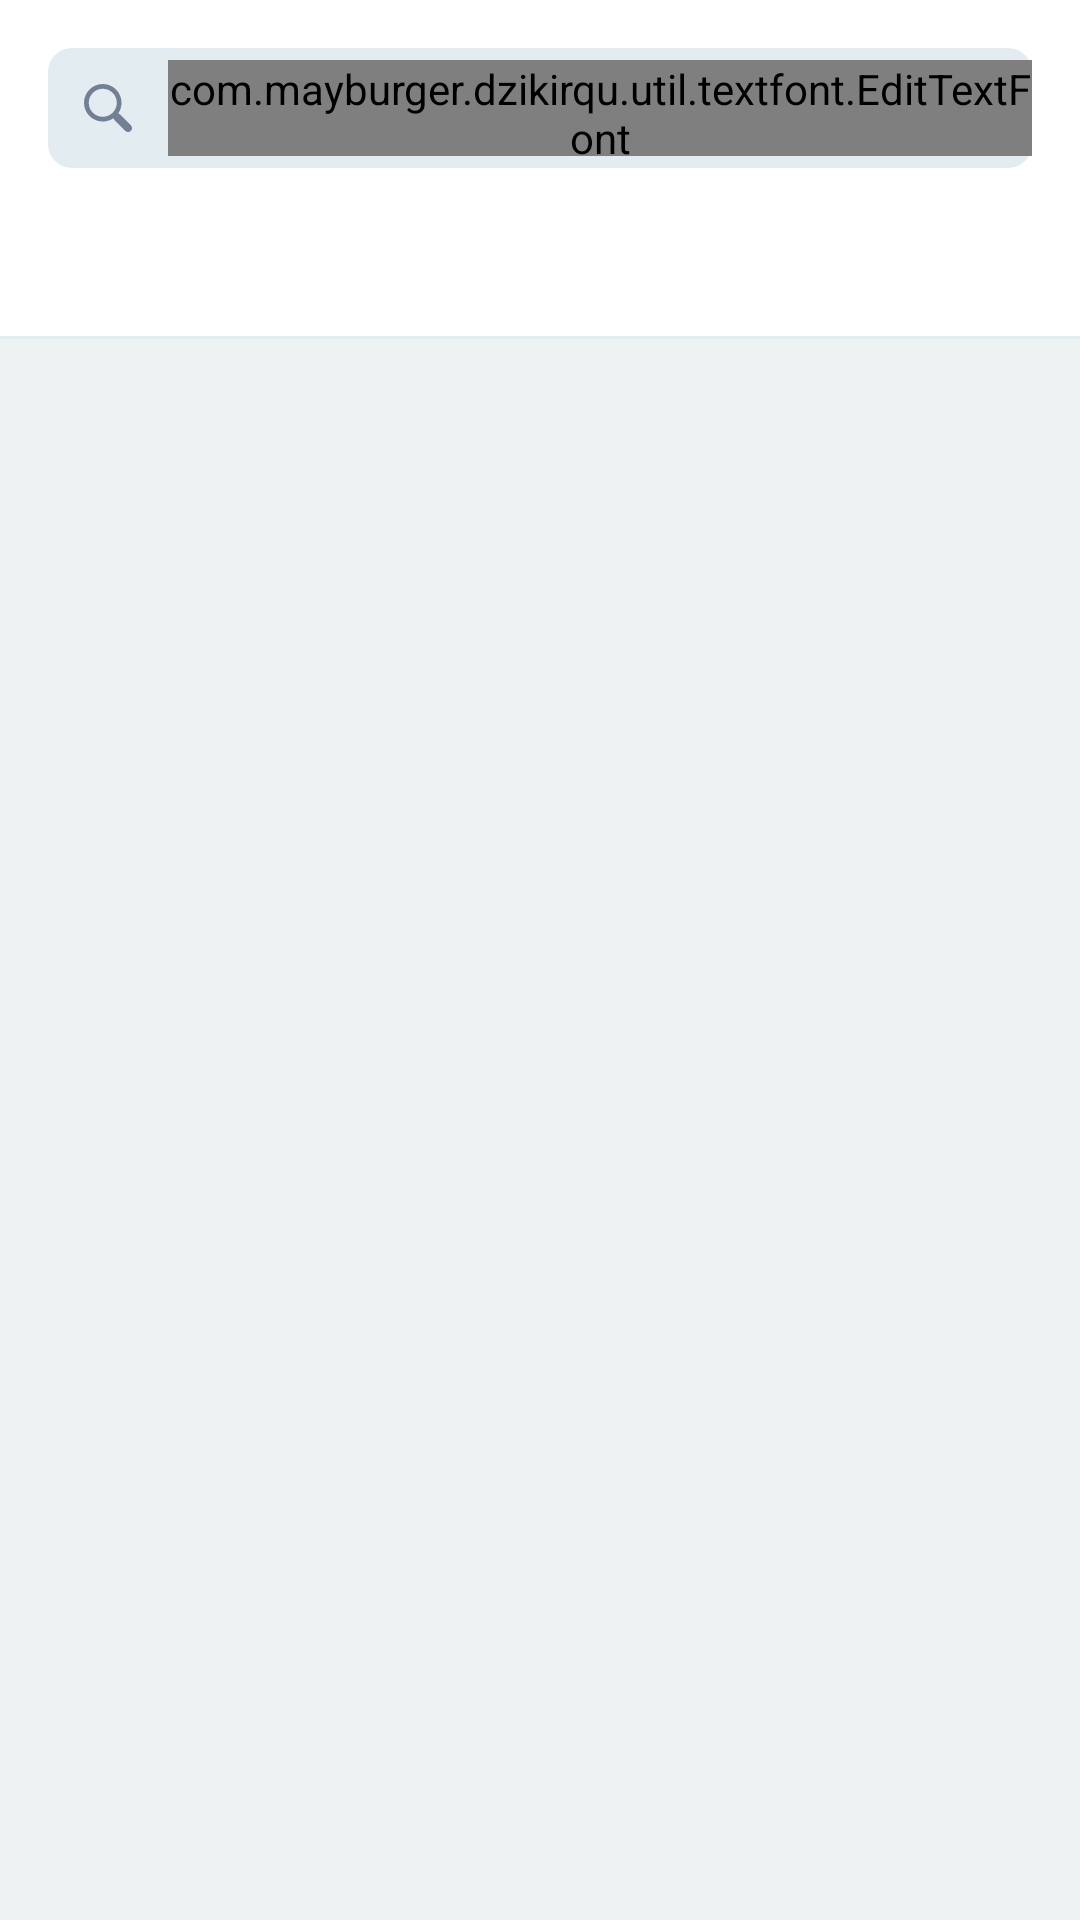

Named icons in this screenshot (1080*1920) and their centers, (x,y):
search: (108,108)
